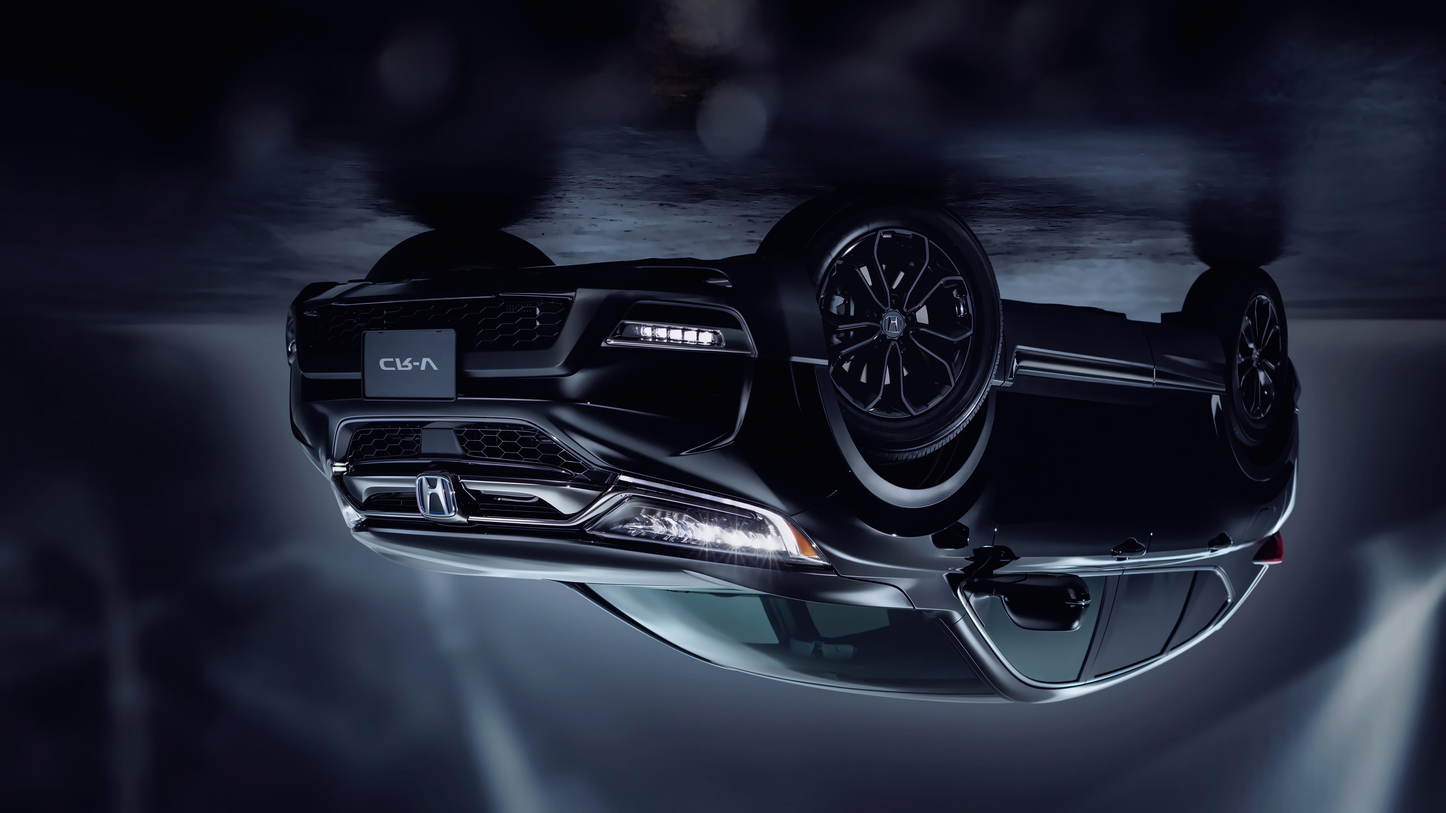Car hood: (349, 529, 935, 613)
Driver-s door - -F-R-: (949, 274, 1121, 690)
Fender - -F-R-: (739, 353, 1012, 646)
Front bumper: (276, 268, 832, 445)
Headlight - -R-: (583, 473, 838, 573)
Passenger-s door - -R-R-: (1062, 285, 1235, 695)
Side bumper - -R-: (967, 290, 1230, 449)
Side mirror - -R-: (982, 561, 1091, 633)
